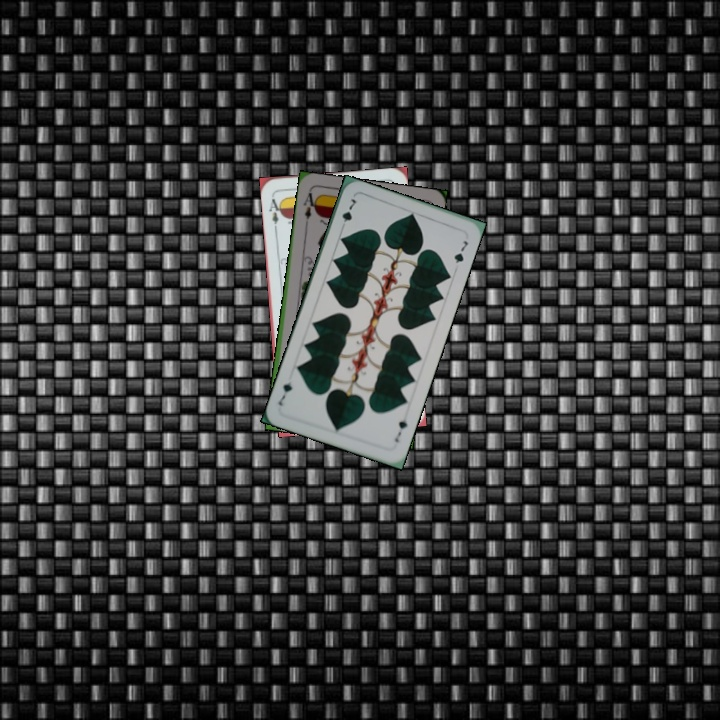EA: (299, 188, 320, 228), (265, 191, 285, 232)
G7: (337, 194, 359, 233), (391, 416, 410, 445)
